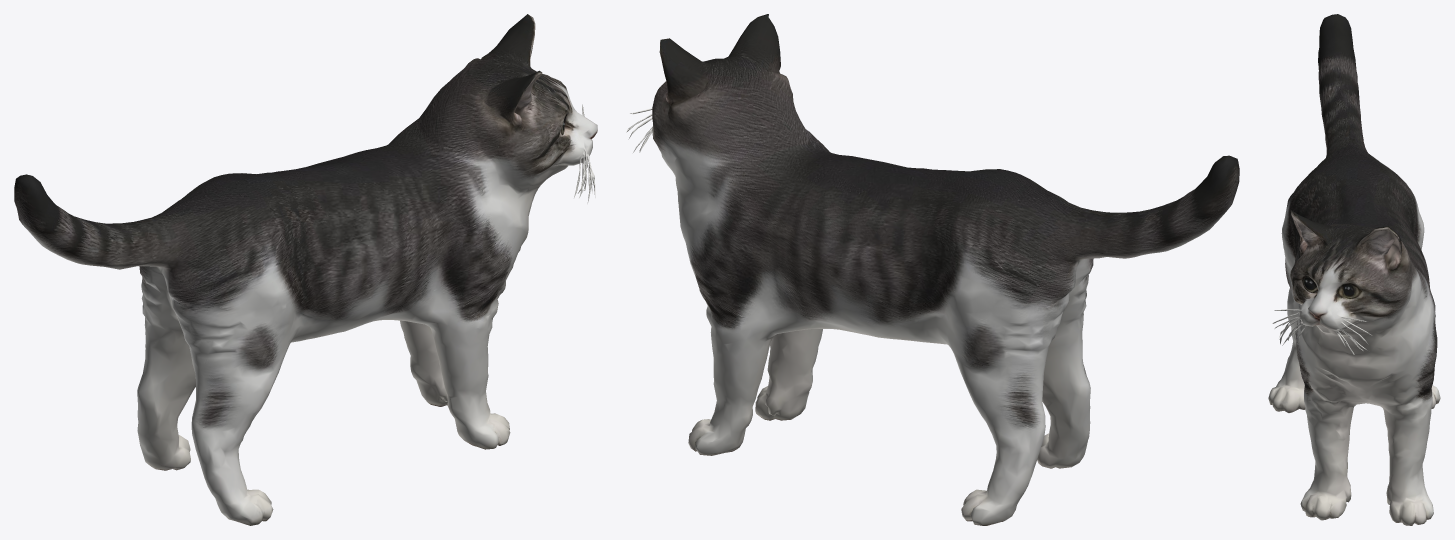
The model's file is KYURUGACAT.glb.
3 renders of one model, left to right at view 1: azimuth 30°, elevation 25°; view 2: azimuth 150°, elevation 25°; view 3: azimuth 270°, elevation 25°, orthographic. The views are drawn at different scales.
Parts seen in each view (by area): view 1: tripo_node_6292251d-df73-4fae-9639-b97b790d9836; view 2: tripo_node_6292251d-df73-4fae-9639-b97b790d9836; view 3: tripo_node_6292251d-df73-4fae-9639-b97b790d9836.
Part boxes in pixels (left/top/right/bottom): tripo_node_6292251d-df73-4fae-9639-b97b790d9836: left=14, top=14, right=597, bottom=525; tripo_node_6292251d-df73-4fae-9639-b97b790d9836: left=626, top=14, right=1239, bottom=525; tripo_node_6292251d-df73-4fae-9639-b97b790d9836: left=1268, top=14, right=1440, bottom=525.
Bounding box in the file's own units: 1.61 × 1 × 0.4859.
Materials: 1 (1 with a texture image).
